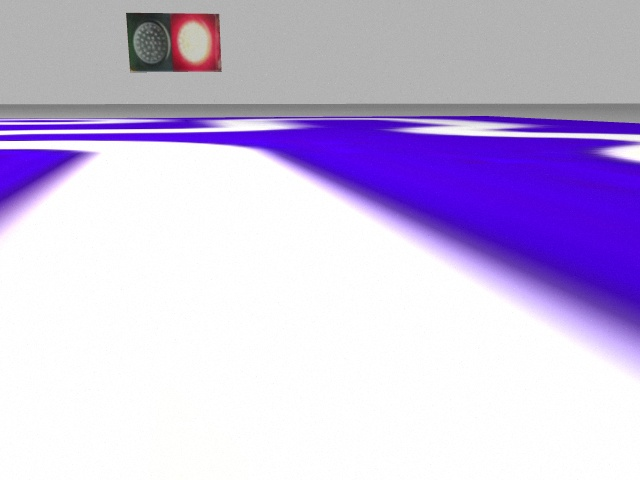red: (172, 14, 222, 70)
